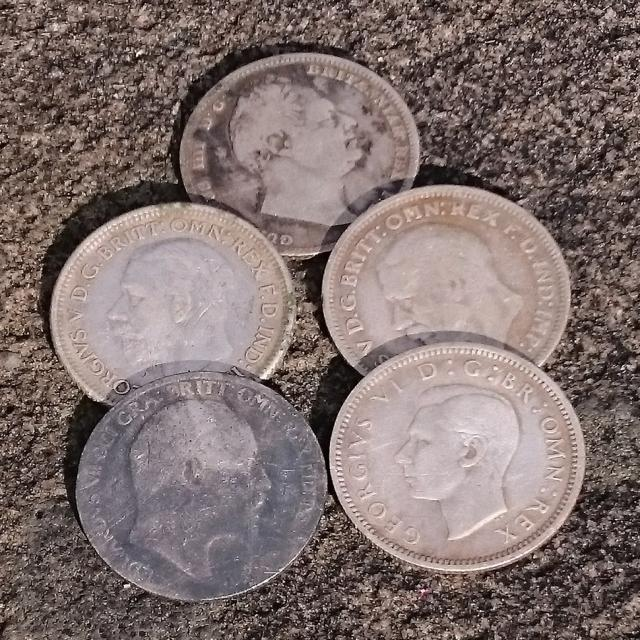Coin: (322, 337, 596, 584), (71, 377, 327, 611), (36, 198, 294, 400), (179, 49, 425, 256), (323, 186, 577, 369)
